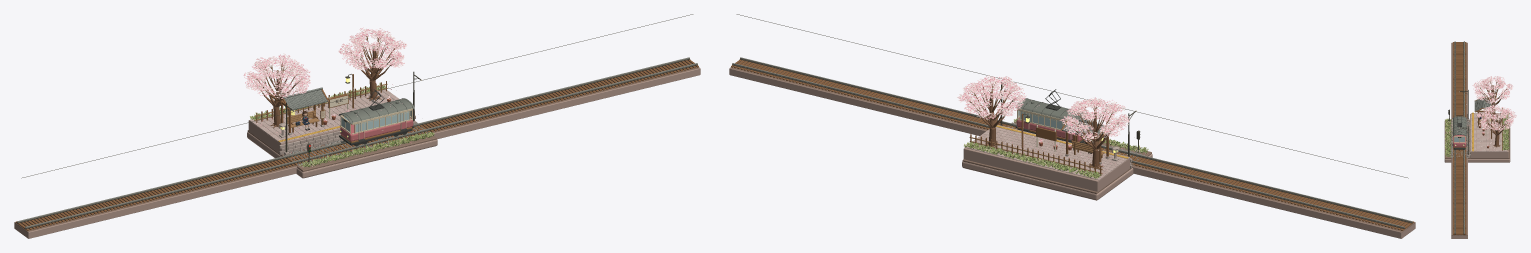
File: station.glb
3 views of the same model, side by side, from view 1: azimuth 30°, elevation 25°; view 2: azimuth 150°, elevation 25°; view 3: azimuth 270°, elevation 25° (orthographic). The views are drawn at different scales.
Parts seen in each view (by area): view 1: environment, tram; view 2: environment, tram; view 3: environment, tram.
Boxes of the visible parts, x1=… form: environment: x1=14, y1=14, x2=700, y2=238; tram: x1=338, y1=89, x2=414, y2=146; environment: x1=729, y1=14, x2=1415, y2=238; tram: x1=1015, y1=89, x2=1088, y2=143; environment: x1=1444, y1=41, x2=1516, y2=238; tram: x1=1452, y1=115, x2=1467, y2=150.
Bounding box in the file's own units: 70 × 8.63 × 11.13.
